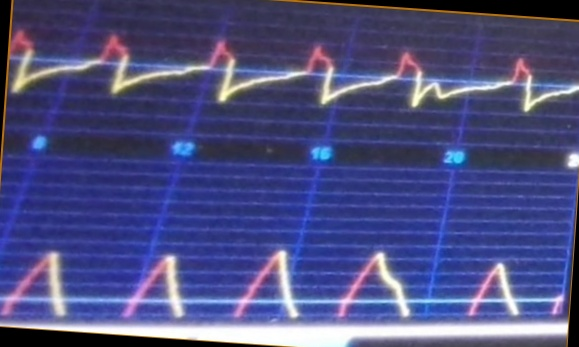Premature_cycling Flow: (10, 23, 577, 132)
Premature_cycling Volume: (3, 236, 542, 320)
